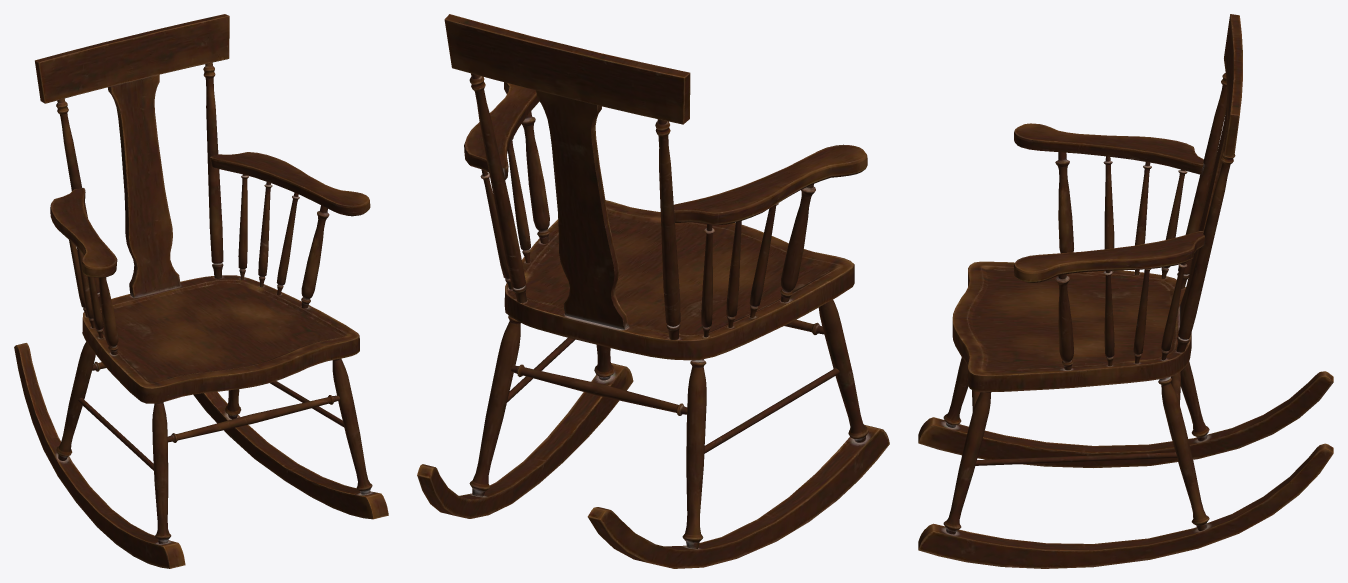
File: Rockingchair_01.glb
3 views of the same model, side by side, from view 1: azimuth 30°, elevation 25°; view 2: azimuth 150°, elevation 25°; view 3: azimuth 270°, elevation 25° (orthographic). The views are drawn at different scales.
Visible parts, largest first — view 1: Rockingchair_01; view 2: Rockingchair_01; view 3: Rockingchair_01.
Boxes of the visible parts, x1,y1,x2,y2 form: Rockingchair_01: (14, 14, 388, 568); Rockingchair_01: (417, 14, 889, 568); Rockingchair_01: (918, 14, 1333, 568).
Bounding box in the file's own units: 0.7081 × 0.9949 × 0.8335.
Materials: 1 (1 with a texture image).
